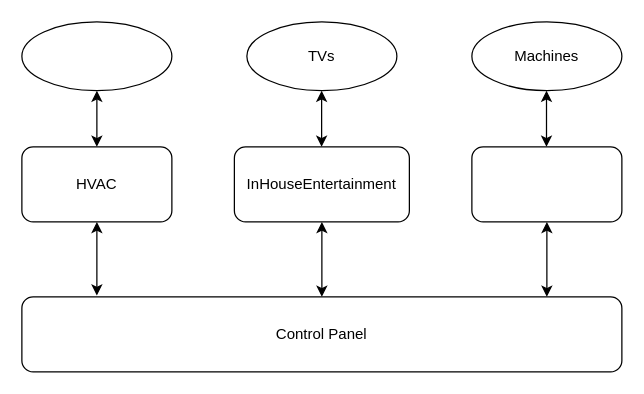
Some shapes in this 644 by 394 pixel diagram are drawn without their labels. The centre of each missing label's shape, as x and y in pixels:
KitchenMachine: (x=546, y=184)
Rooms/Sensors: (x=96, y=56)
